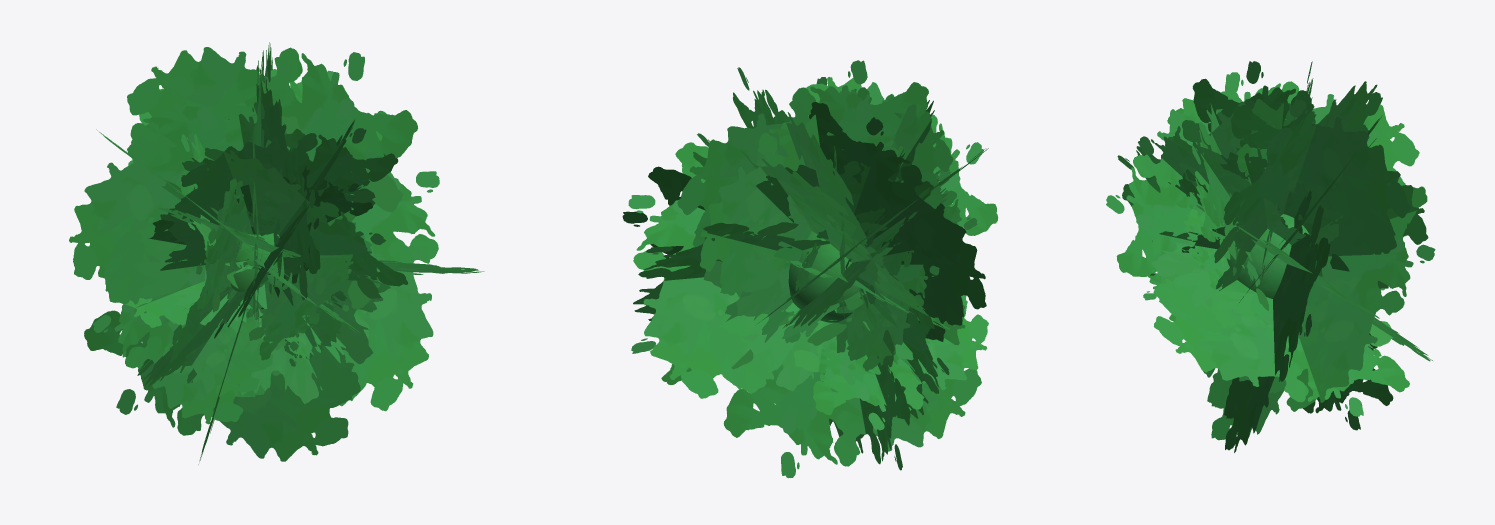
File: buisson.glb
3 renders of one model, left to right at view 1: azimuth 30°, elevation 25°; view 2: azimuth 150°, elevation 25°; view 3: azimuth 270°, elevation 25°, orthographic. The views are drawn at different scales.
Visible parts, largest first — view 1: TEXTURE BUISSON.025; view 2: TEXTURE BUISSON.025; view 3: TEXTURE BUISSON.025.
Boxes of the visible parts, x1,y1,x2,y2 form: TEXTURE BUISSON.025: (69, 42, 484, 464); TEXTURE BUISSON.025: (622, 60, 998, 478); TEXTURE BUISSON.025: (1106, 61, 1435, 452).
Size of the model in its own units: 3.06 by 3.04 by 2.61.
Materials: 1 (1 with a texture image).
